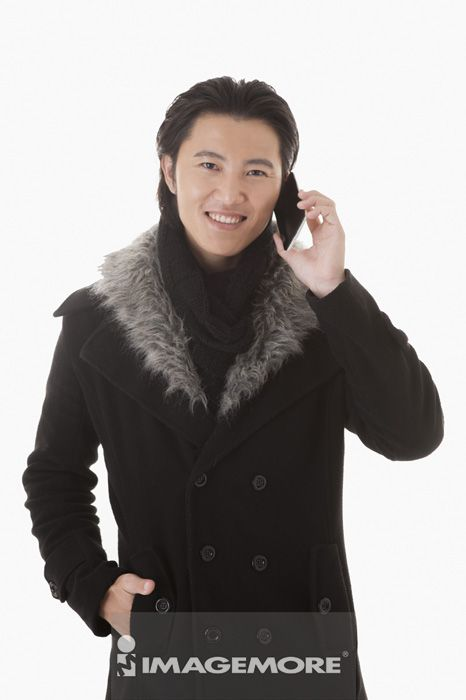phone: (272, 177, 311, 253)
talk: (185, 142, 347, 289)
